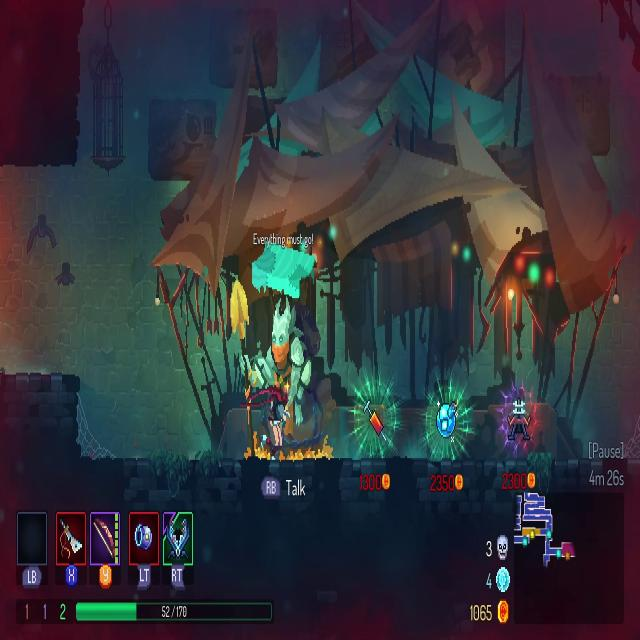agents: (259, 382, 293, 462)
